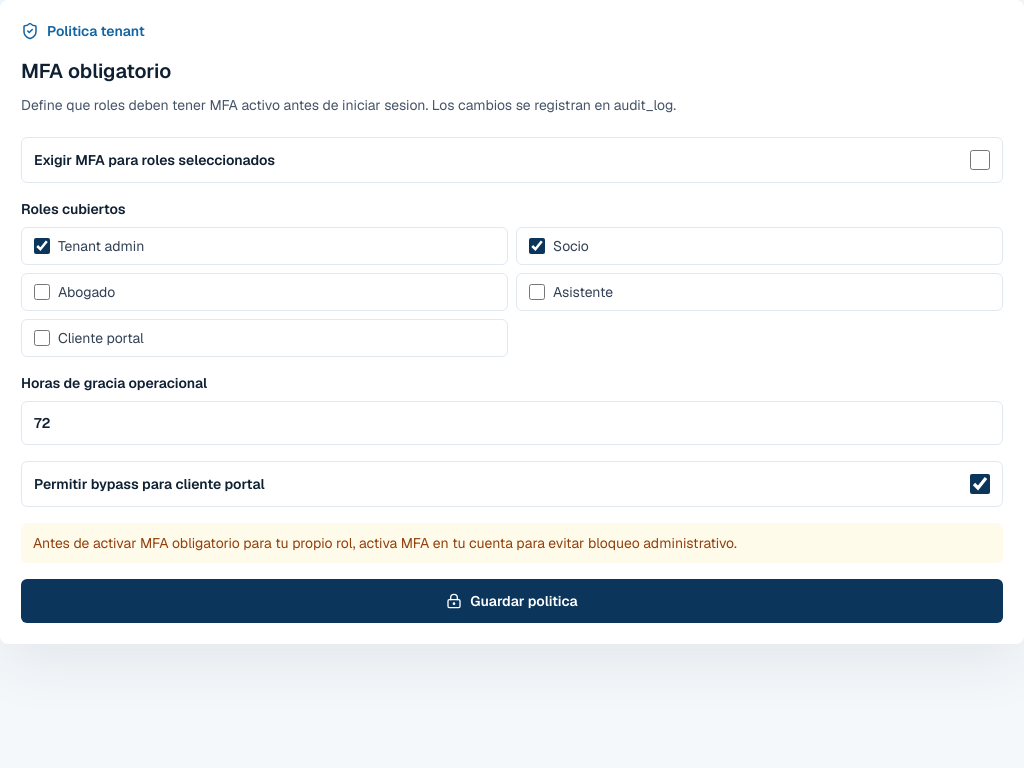
Test: TenantSecurityPolicy › requires an active session before saving policy
This screenshot has width=1024, height=768.
Click the button "Guardar politica" at [512, 601], box [21,579,1003,623]
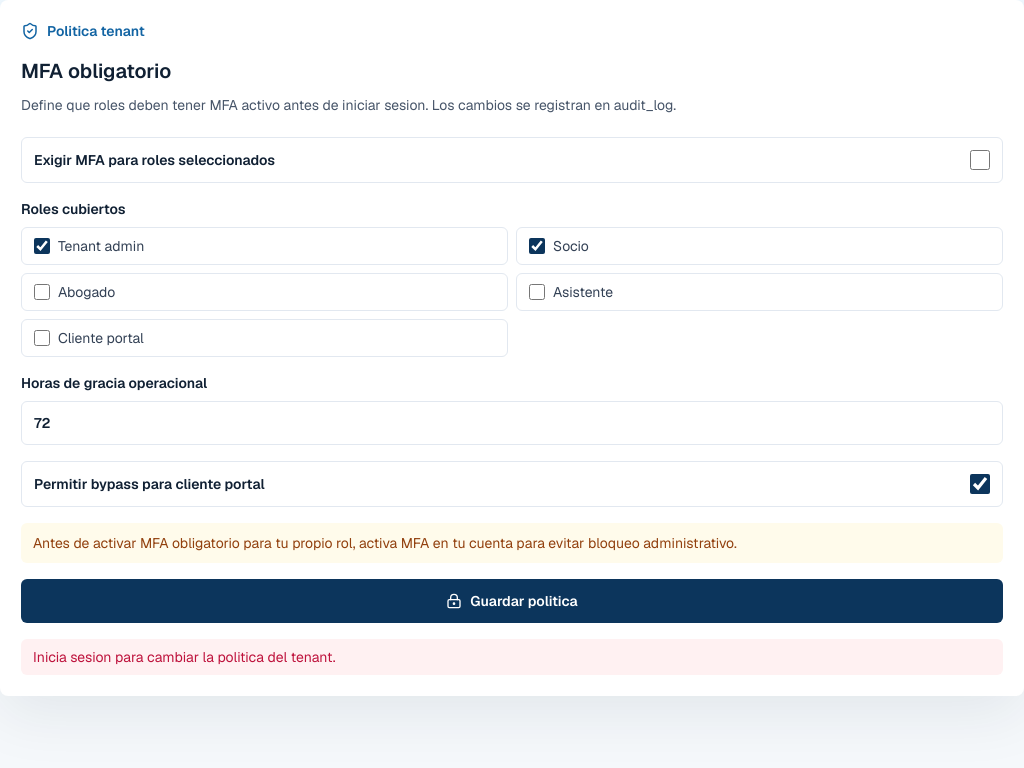
Result: the text "Inicia sesion para cambiar la politica del tenant." is shown at [21,639,1003,675]
